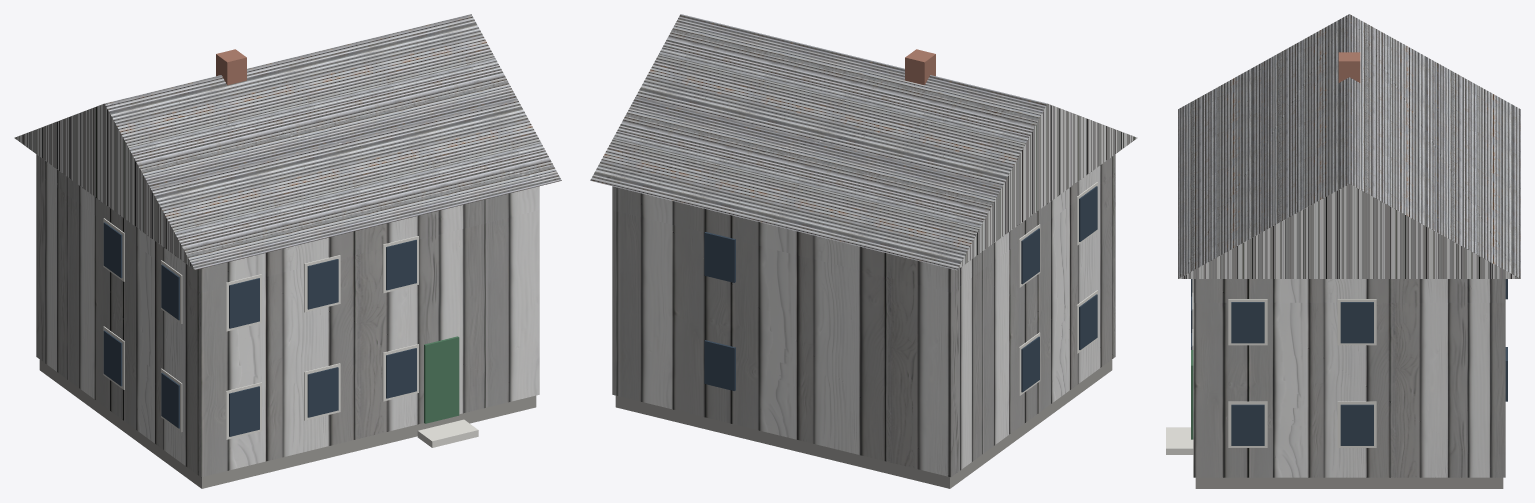
Rendered from asset.glb.
The picture shows the model from 3 angles, left to right: view 1: azimuth 30°, elevation 25°; view 2: azimuth 150°, elevation 25°; view 3: azimuth 270°, elevation 25°; orthographic projection. The views are drawn at different scales.
Parts seen in each view (by area): view 1: body, roof, gable_end, foundation, door, win.001, win.009, win.010, win, win.002, win.008, step (+5 smaller); view 2: body, roof, gable_end, foundation, win.015, win.007, chimney, win.004, win.011, win.003, win.012; view 3: roof, body, gable_end, foundation, win.005, win.013, win.006, win.014, step, chimney, win_trim.005, win_trim.012 (+2 smaller).
Part boxes in pixels (x1,y1,x2,y2): body: [36, 154, 539, 477]; roof: [104, 14, 561, 270]; gable_end: [14, 103, 194, 269]; foundation: [39, 359, 536, 488]; door: [424, 336, 459, 423]; win.001: [307, 367, 338, 417]; win.009: [307, 259, 338, 309]; win.010: [386, 239, 416, 290]; win: [229, 386, 259, 436]; win.002: [386, 348, 416, 398]; win.008: [229, 278, 259, 328]; step: [417, 419, 478, 447]; body: [612, 154, 1115, 477]; roof: [590, 14, 1047, 270]; gable_end: [957, 103, 1137, 269]; foundation: [615, 359, 1112, 488]; win.015: [704, 232, 735, 282]; win.007: [704, 340, 735, 390]; chimney: [905, 49, 935, 85]; win.004: [1021, 336, 1039, 392]; win.011: [1079, 186, 1097, 241]; win.003: [1079, 294, 1097, 349]; win.012: [1021, 228, 1039, 284]; roof: [1178, 14, 1520, 278]; body: [1193, 279, 1505, 477]; gable_end: [1178, 184, 1520, 278]; foundation: [1195, 477, 1503, 488]; win.005: [1231, 404, 1264, 445]; win.013: [1231, 302, 1264, 343]; win.006: [1340, 404, 1373, 445]; win.014: [1340, 302, 1373, 343]; step: [1166, 427, 1193, 454]; chimney: [1338, 52, 1360, 82]; win_trim.005: [1228, 401, 1267, 447]; win_trim.012: [1228, 299, 1267, 345].
Size of the model in its own units: 10.29 by 9.3 by 9.09.
7 materials, 2 textured.
